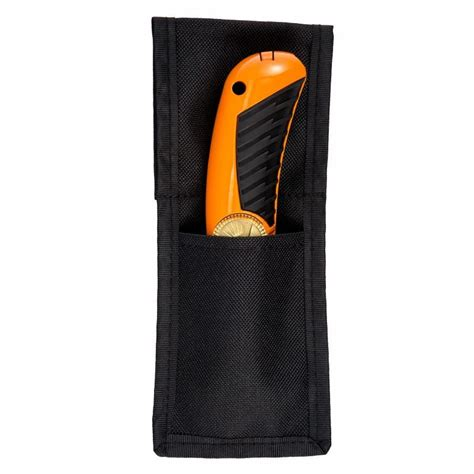nylon: (150, 15, 335, 457)
